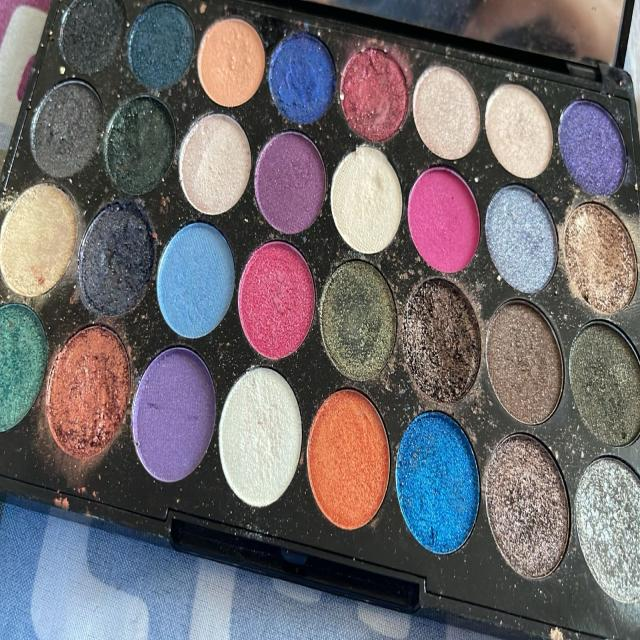eye shade: (211, 57, 478, 532), (0, 0, 209, 503), (483, 63, 633, 616)
